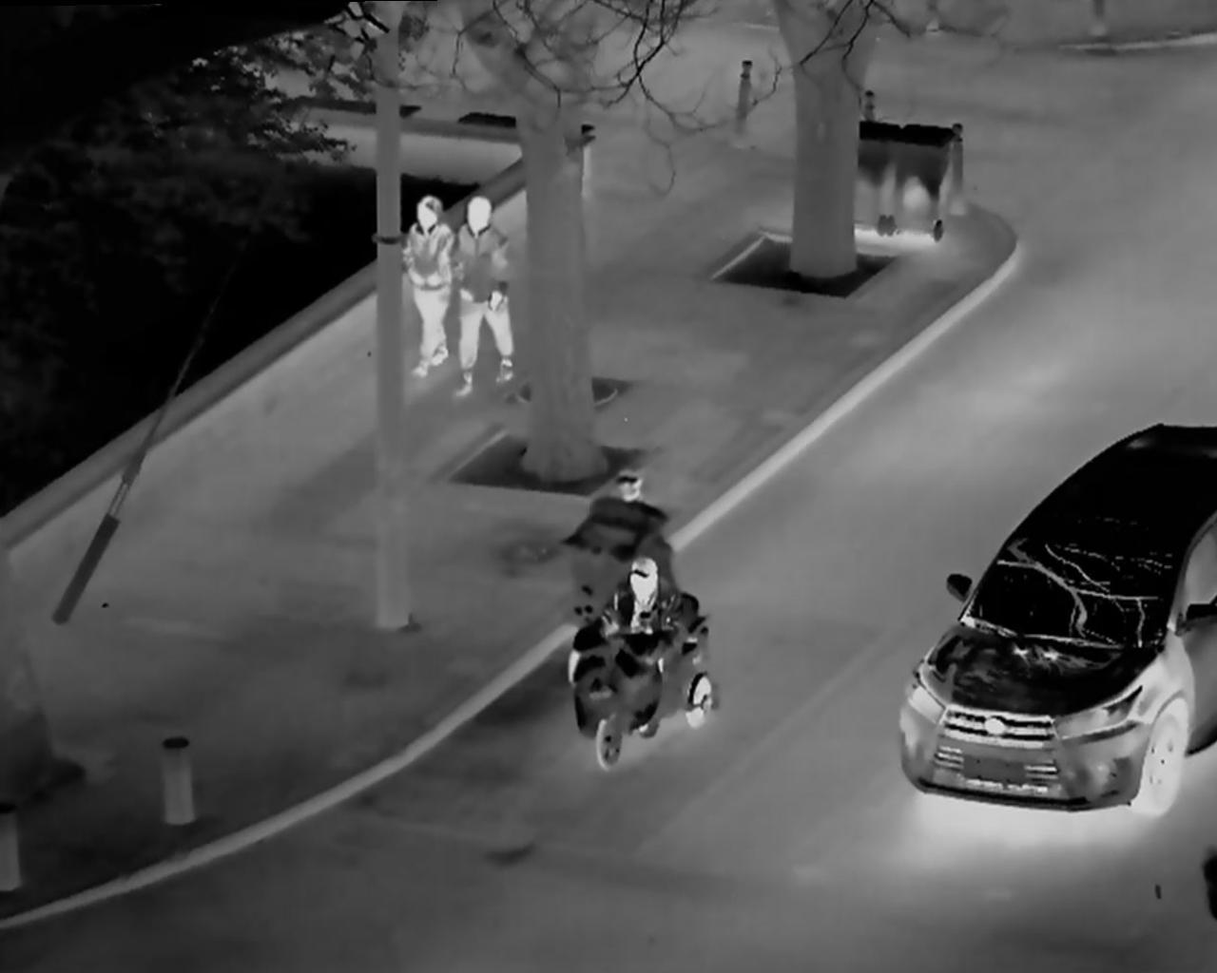person: (584, 547, 685, 743), (569, 470, 665, 628), (453, 182, 515, 404), (400, 180, 457, 370)
